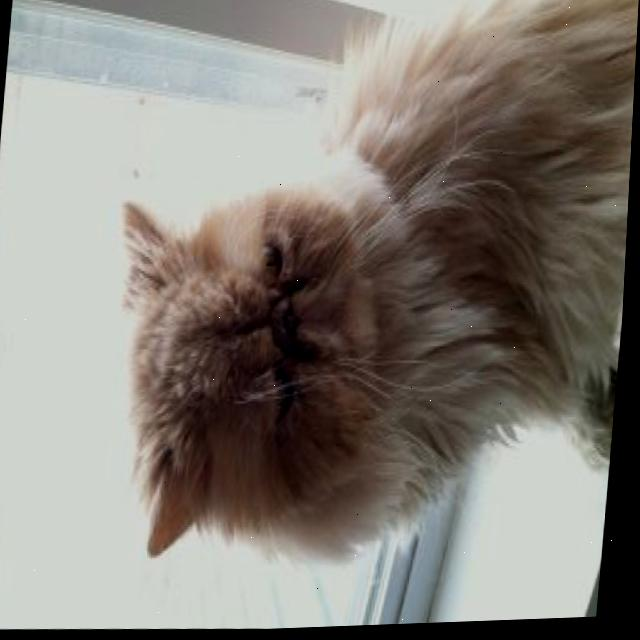Persian: (84, 0, 640, 593)
